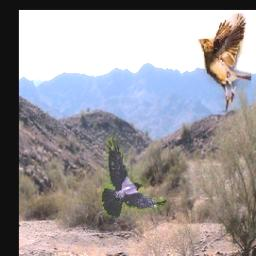Crow: (102, 135, 166, 218)
Sparrow: (198, 13, 252, 113)
